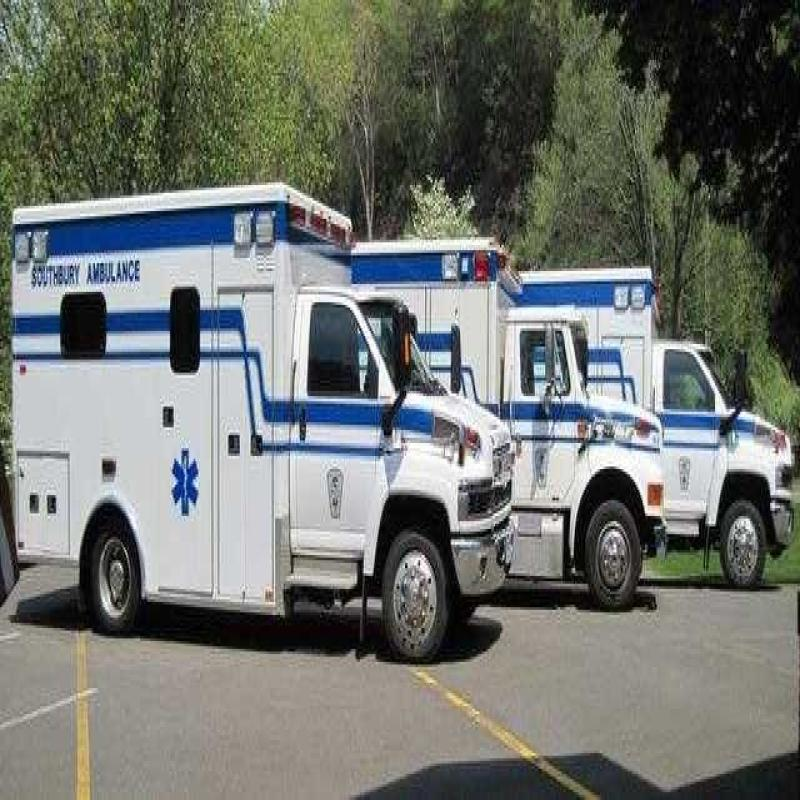AmbulanceSiren: (288, 191, 356, 260)
